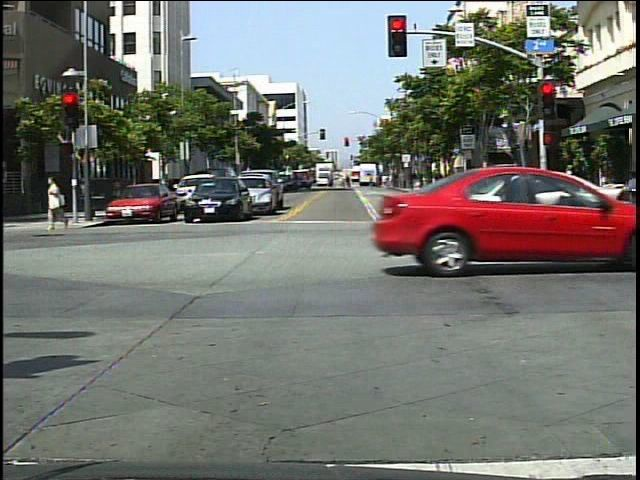person: (42, 170, 73, 234), (558, 162, 581, 212)
